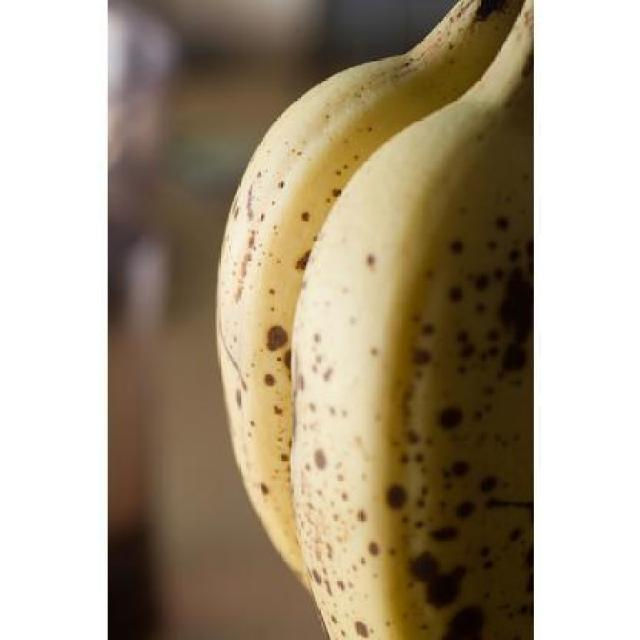Banana: (208, 0, 508, 594)
